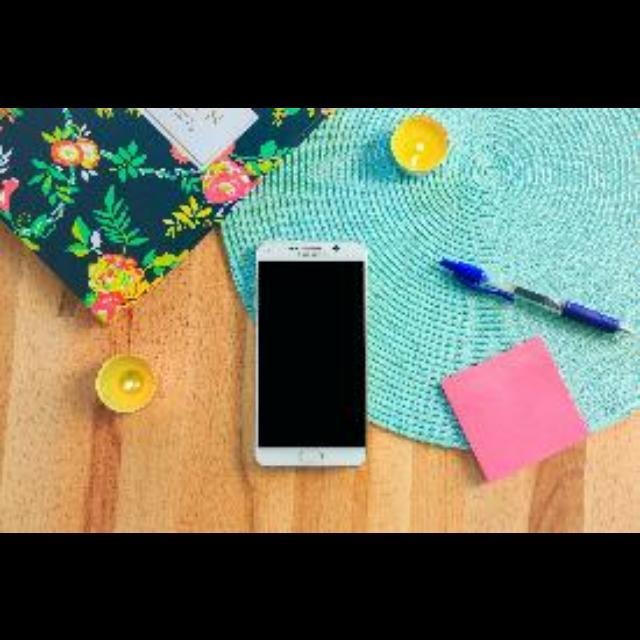Phone: (256, 236, 364, 466)
